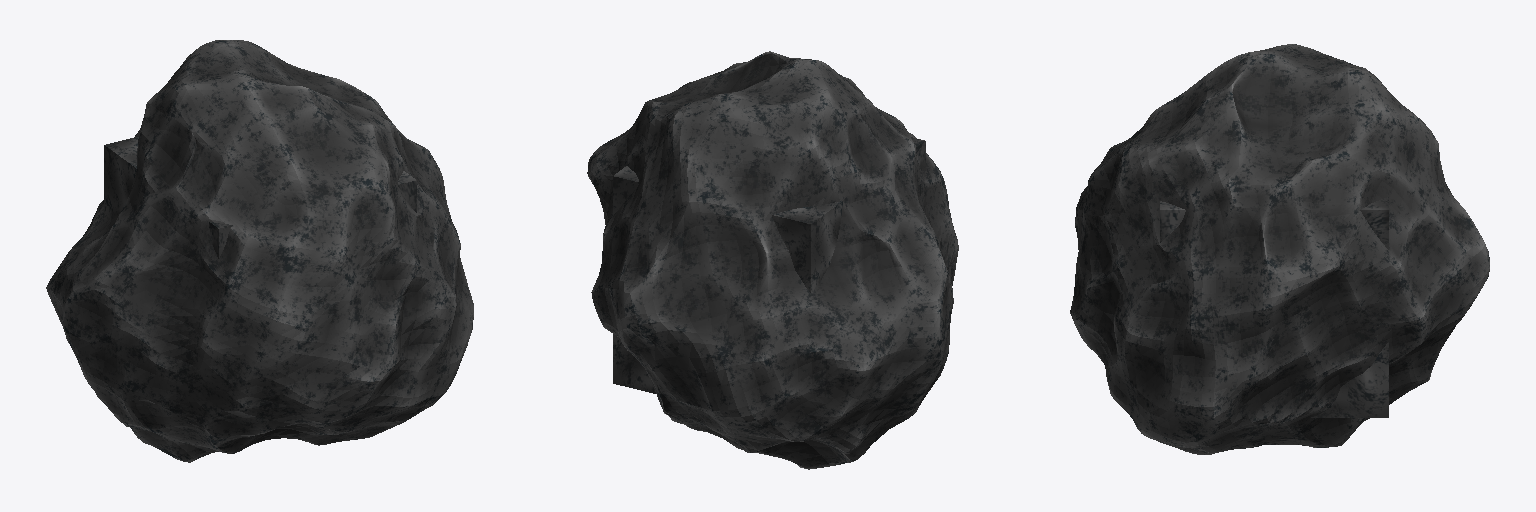
3 views of the same model, side by side, from view 1: azimuth 30°, elevation 25°; view 2: azimuth 150°, elevation 25°; view 3: azimuth 270°, elevation 25° (orthographic).
Visible parts, largest first — view 1: Pedra2; view 2: Pedra2; view 3: Pedra2.
Part boxes in pixels (x1,y1,x2,y2): Pedra2: (46, 40, 473, 462); Pedra2: (587, 51, 958, 469); Pedra2: (1070, 44, 1489, 454).
Size of the model in its own units: 3.67 by 3.7 by 3.67.
Materials: 1 (1 with a texture image).